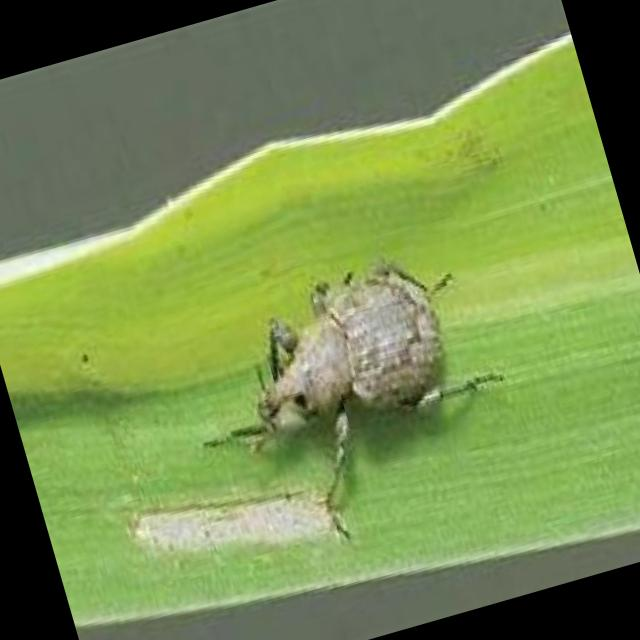rice-bug: (222, 232, 508, 534)
